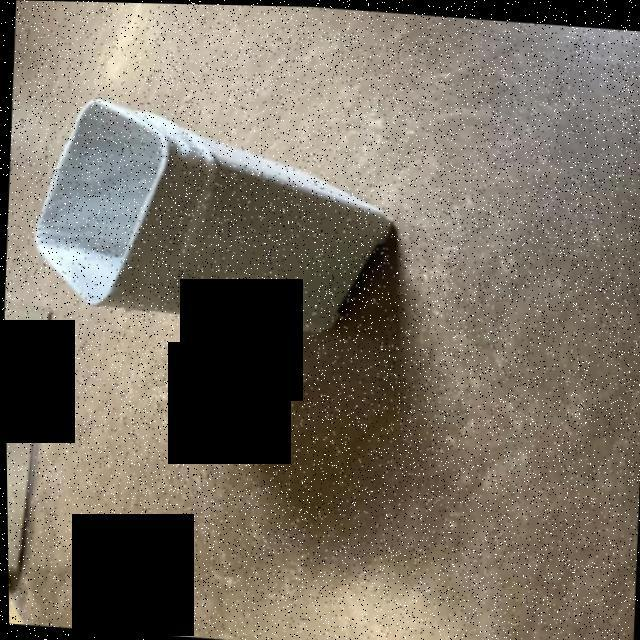bin: (16, 81, 430, 380)
